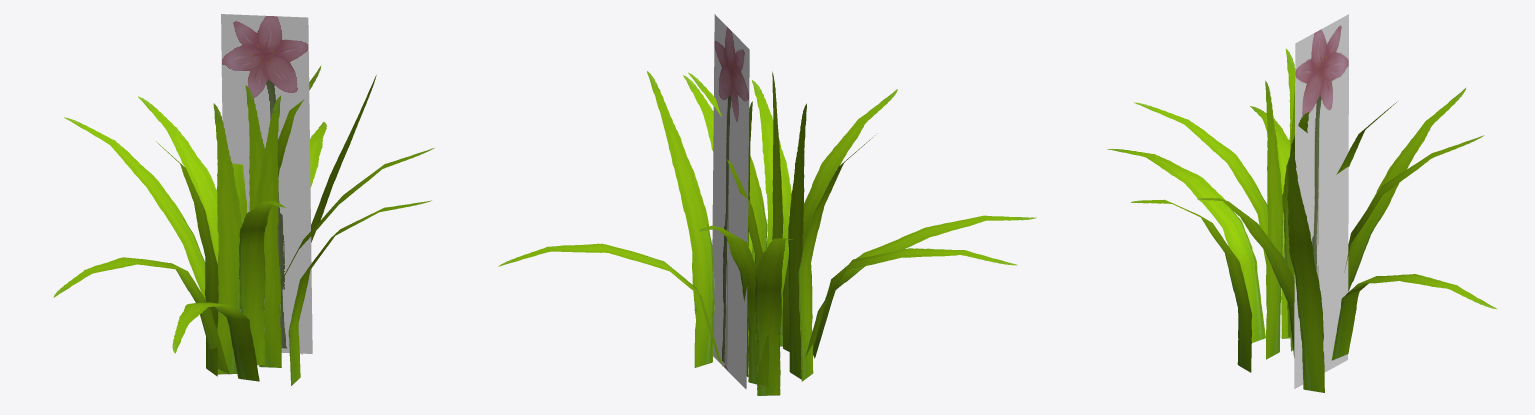
The model's file is Grass Flower.fbx.
3 renders of one model, left to right at view 1: azimuth 30°, elevation 25°; view 2: azimuth 150°, elevation 25°; view 3: azimuth 270°, elevation 25°, orthographic. The views are drawn at different scales.
Parts seen in each view (by area): view 1: group1_pPlane2, pPlane2; view 2: group1_pPlane2, pPlane2; view 3: group1_pPlane2, pPlane2.
Part boxes in pixels (x1,y1,x2,y2): group1_pPlane2: [53, 65, 434, 385]; pPlane2: [221, 14, 312, 353]; group1_pPlane2: [498, 71, 1036, 395]; pPlane2: [712, 14, 749, 389]; group1_pPlane2: [1107, 48, 1496, 392]; pPlane2: [1294, 14, 1348, 388].
Size of the model in its own units: 0.0163 by 0.0123 by 0.0137.
Materials: 16 (16 with a texture image).
